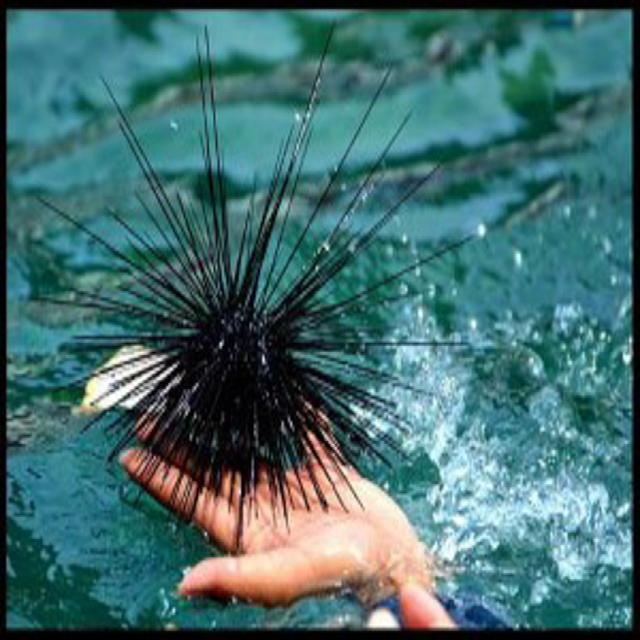Urchin: (31, 22, 477, 521)
